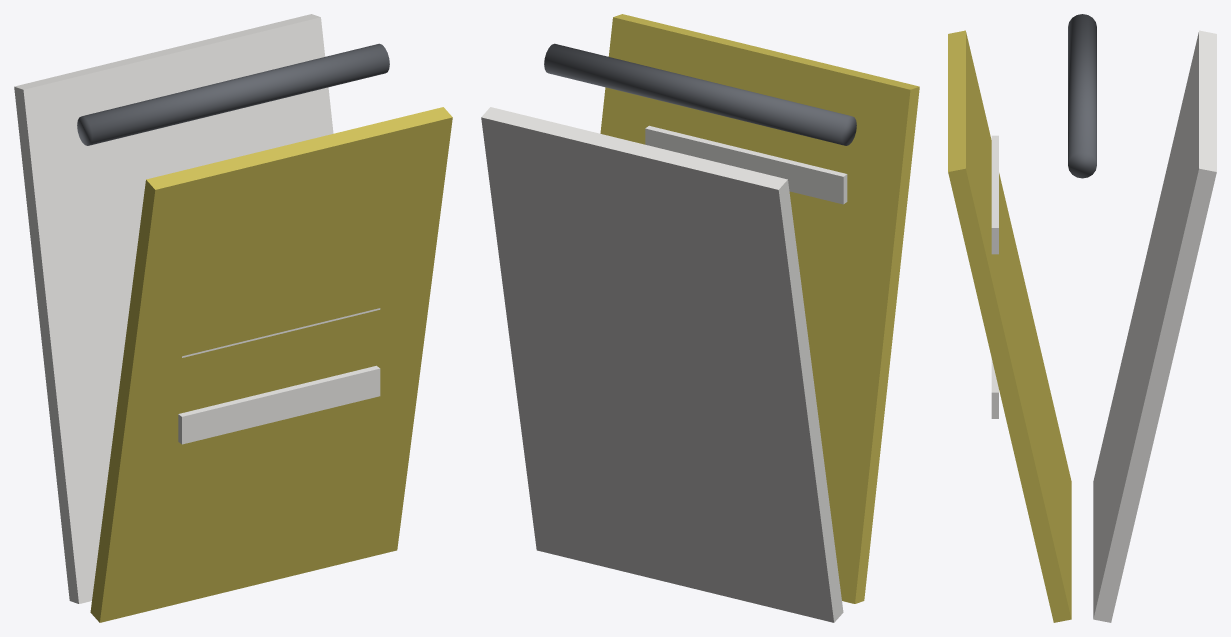
Rendered from prop_tate_aframe_yellow.glb.
The picture shows the model from 3 angles, left to right: view 1: azimuth 30°, elevation 25°; view 2: azimuth 150°, elevation 25°; view 3: azimuth 270°, elevation 25°; orthographic projection. The views are drawn at different scales.
Visible parts, largest first — view 1: tate_aframe_yellow; view 2: tate_aframe_yellow; view 3: tate_aframe_yellow.
Boxes of the visible parts, x1,y1,x2,y2 form: tate_aframe_yellow: [14, 14, 452, 622]; tate_aframe_yellow: [481, 14, 919, 622]; tate_aframe_yellow: [948, 14, 1216, 622].
Size of the model in its own units: 0.9 by 1.43 by 0.74.
